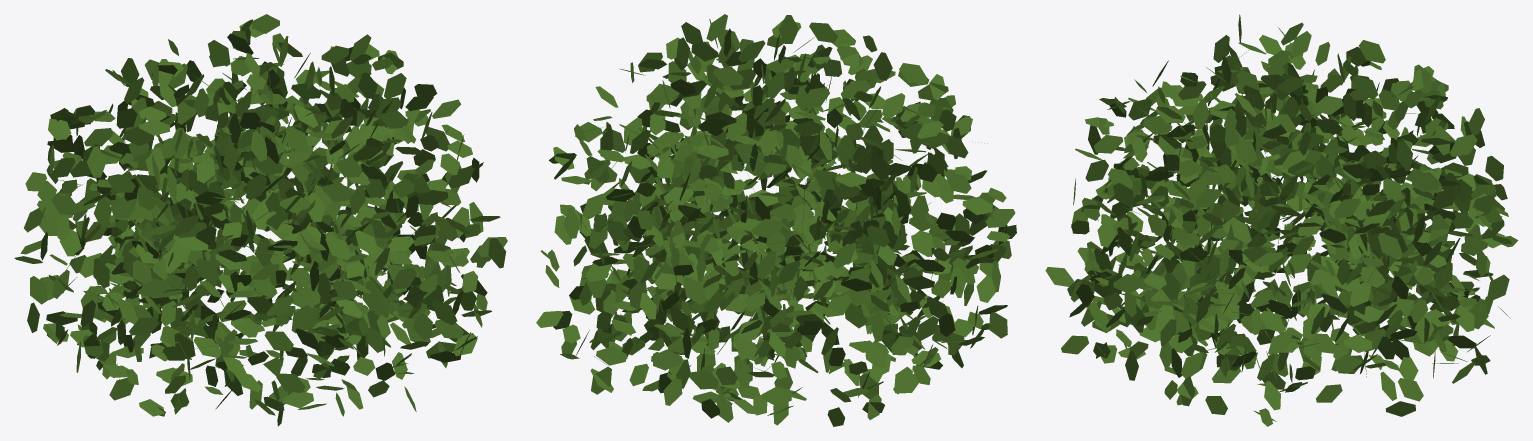
Rendered from kust2.fbx.
3 views of the same model, side by side, from view 1: azimuth 30°, elevation 25°; view 2: azimuth 150°, elevation 25°; view 3: azimuth 270°, elevation 25° (orthographic). The views are drawn at different scales.
Parts seen in each view (by area): view 1: Plane.001; view 2: Plane.001; view 3: Plane.001.
Part boxes in pixels (x1,y1,x2,y2): Plane.001: (14, 14, 507, 426); Plane.001: (536, 14, 1016, 426); Plane.001: (1045, 14, 1518, 426).
Bounding box in the file's own units: 242 × 174 × 243.
